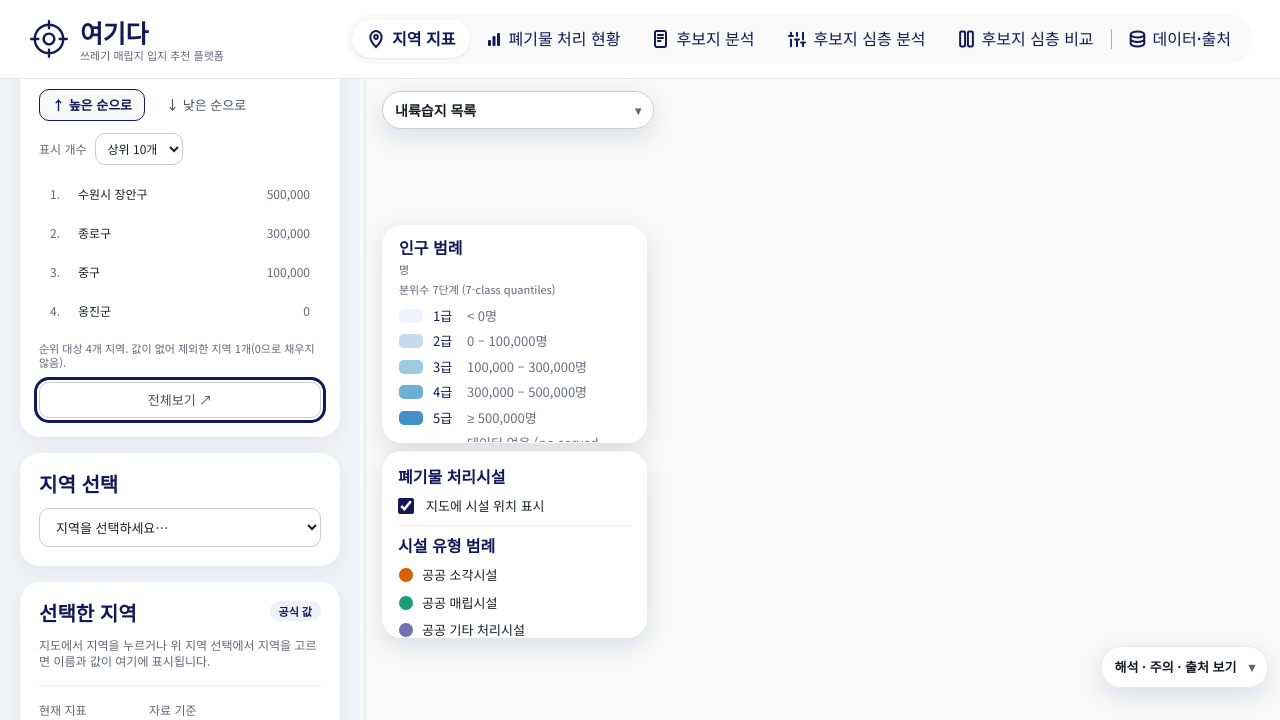
지역 순위 전체보기 › selecting a region there drives the one canonical selected-region state
(page scrolled)
Click the button with test id "open-full-ranking".
click(180, 400)  # box [39,382,321,418]
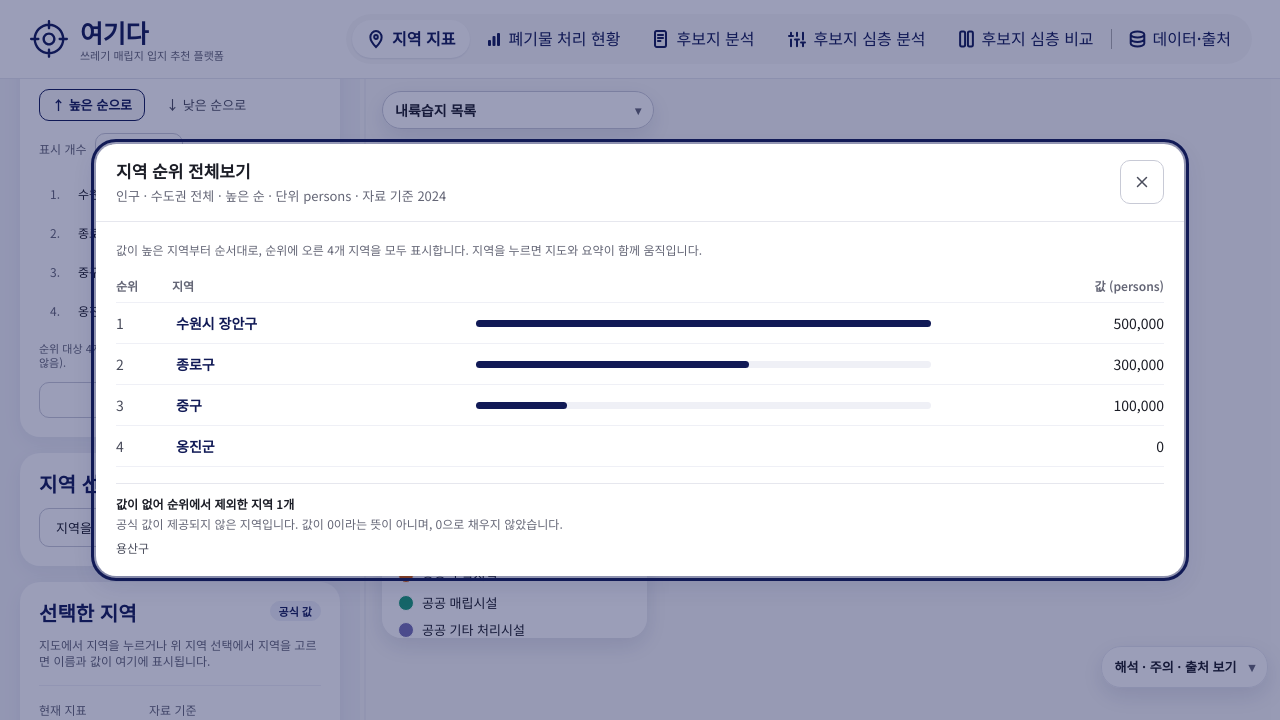
Click the button "종로구".
click(195, 364)  # box [172,350,468,378]
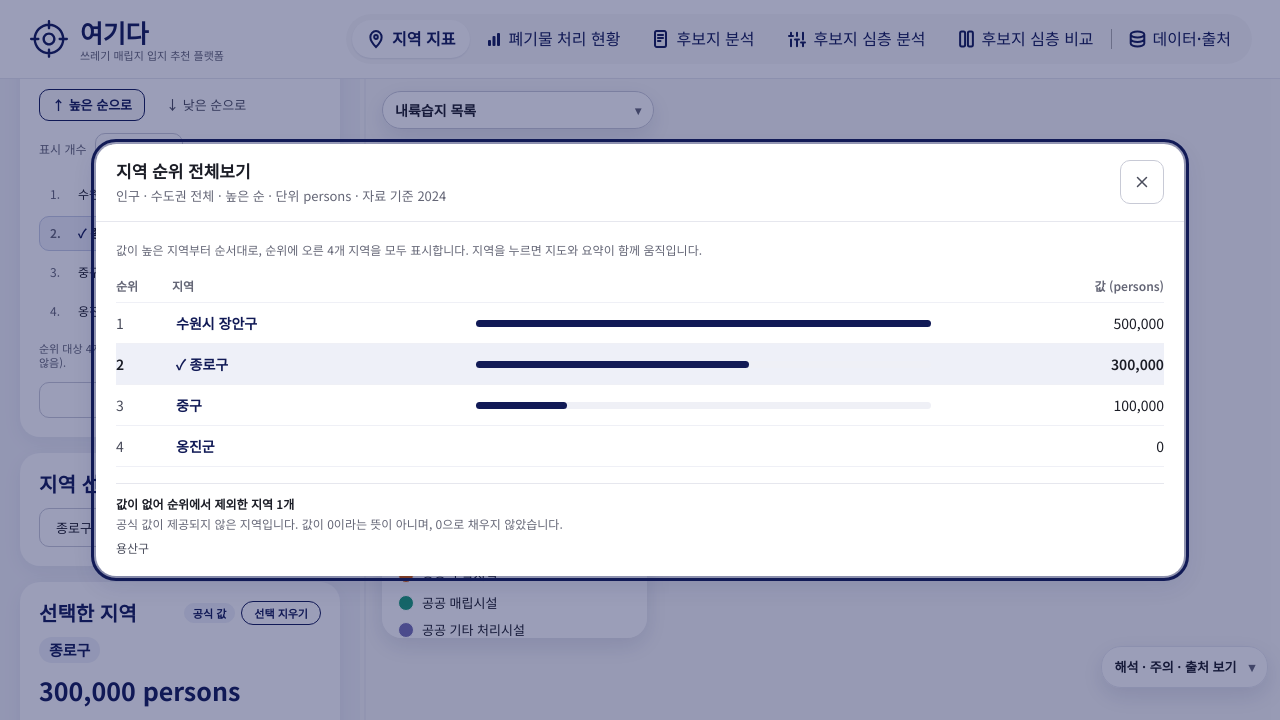
Expected: the element with test id "selected-region-name" reads "종로구", [49,639,90,660]
Expected: the text with test id "selected-region-value" shows "300,000", [39,672,240,708]
